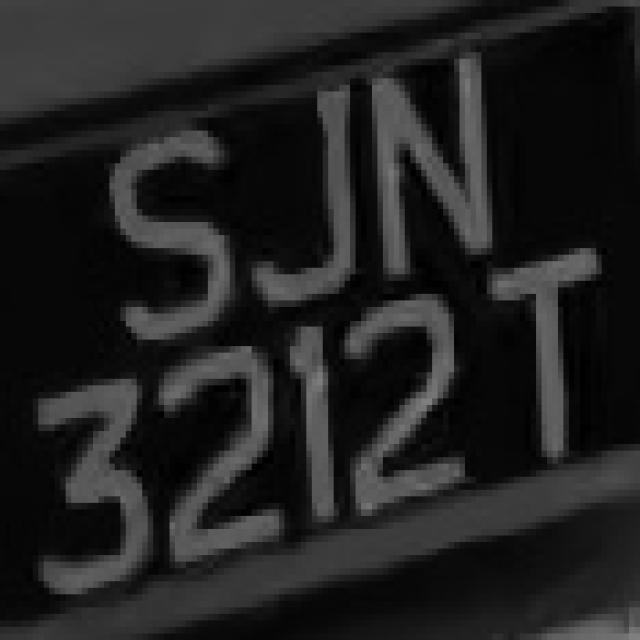1: (262, 294, 344, 562)
2: (131, 326, 279, 574), (323, 288, 487, 510)
3: (17, 359, 142, 614)
J: (235, 65, 361, 320)
N: (350, 39, 509, 281)
S: (82, 111, 246, 359)
T: (454, 242, 624, 476)
